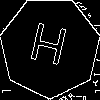H: (25, 22, 70, 75)
